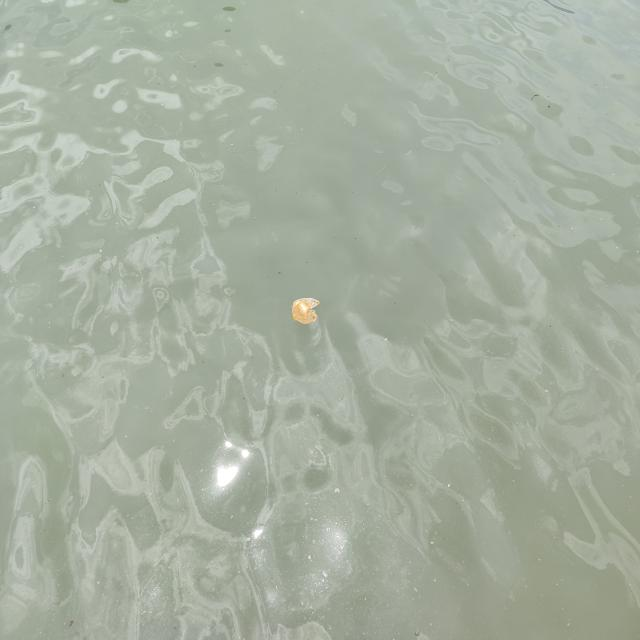Kantong Plastik: (287, 293, 326, 332)
